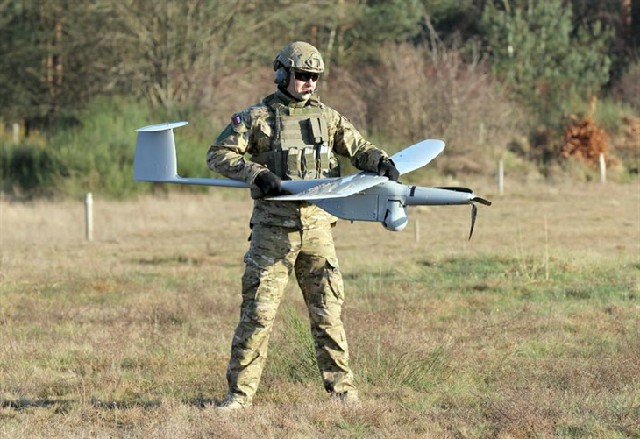maybay_khongnguoilai: (130, 122, 489, 230)
